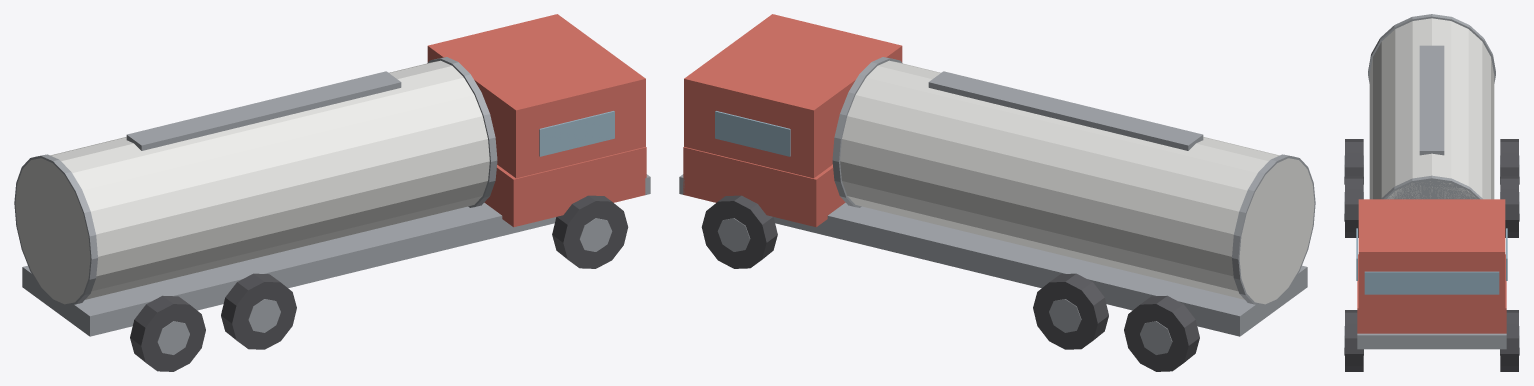
File: dm_fueltanker.glb
3 renders of one model, left to right at view 1: azimuth 30°, elevation 25°; view 2: azimuth 150°, elevation 25°; view 3: azimuth 270°, elevation 25°, orthographic. The views are drawn at different scales.
Visible parts, largest first — view 1: Tanker; view 2: Tanker; view 3: Tanker.
Boxes of the visible parts, x1,y1,x2,y2 form: Tanker: [14, 14, 650, 371]; Tanker: [679, 14, 1315, 371]; Tanker: [1344, 14, 1519, 371].
Size of the model in its own units: 8.51 by 2.8 by 2.82.
